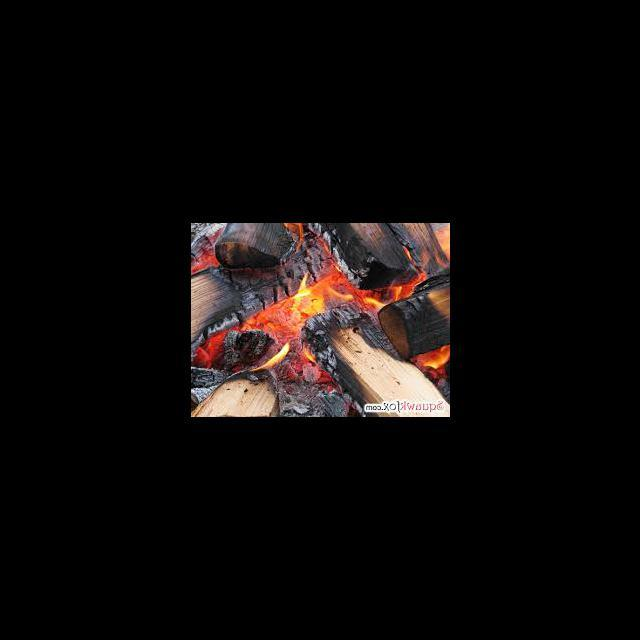Fire: (252, 339, 294, 374), (290, 347, 330, 383), (416, 344, 449, 377), (320, 274, 352, 308), (288, 284, 314, 318), (430, 226, 450, 268), (352, 288, 386, 312), (282, 223, 306, 253), (362, 286, 413, 300), (200, 336, 224, 365), (260, 309, 286, 335), (310, 285, 326, 313), (194, 252, 215, 271), (286, 318, 302, 336), (402, 246, 415, 262), (245, 316, 258, 329), (413, 273, 425, 285)
